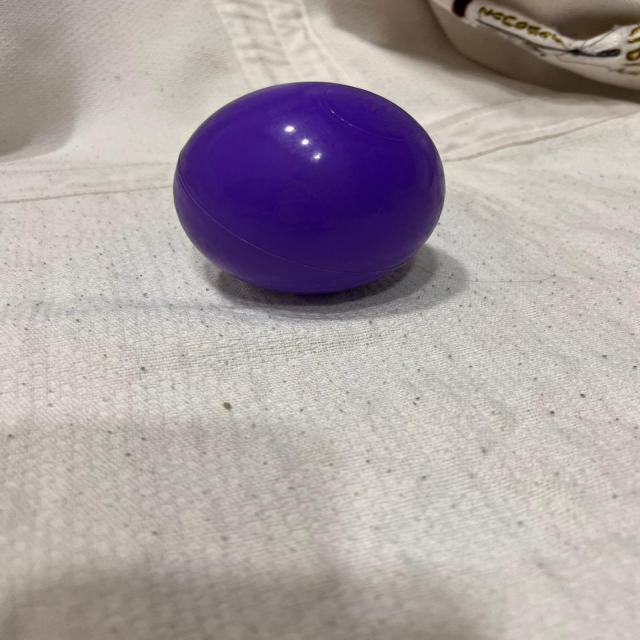ball: (169, 79, 450, 300)
